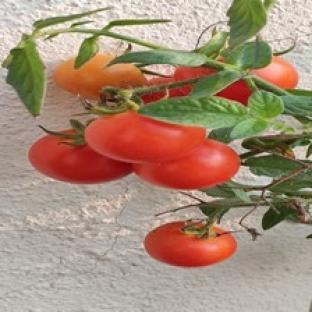Tomato: (85, 112, 206, 162), (134, 140, 239, 189), (28, 134, 132, 183), (53, 53, 147, 98), (144, 222, 236, 267), (251, 56, 299, 89), (253, 56, 299, 89), (143, 88, 182, 104)
